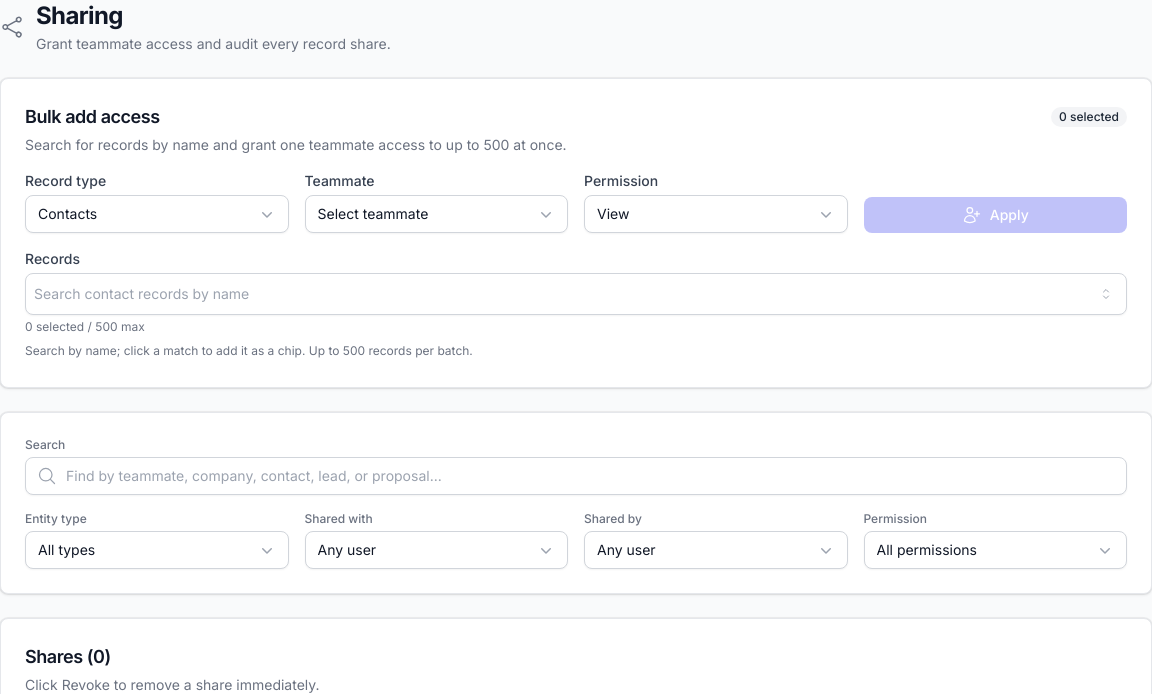
Test: AdminSharingPage bulk add › renders failed bulk results with detail + Retry failed records button
The width and height of the screenshot is (1152, 694).
Select "Sales Rep (rep@example.com)" in the dropdown labelled "Teammate": (436, 214) [304,195,568,233]
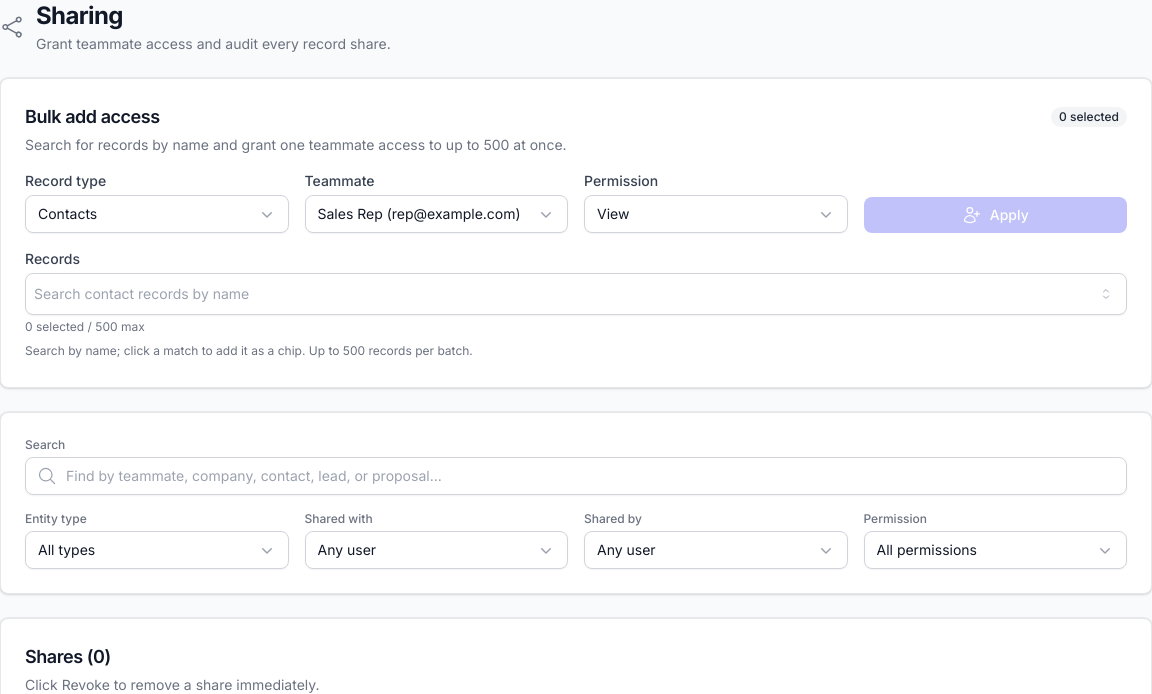
In the dropdown with placeholder "Search contact records by name": (561, 294) [34,284,1088,304], type "Al"
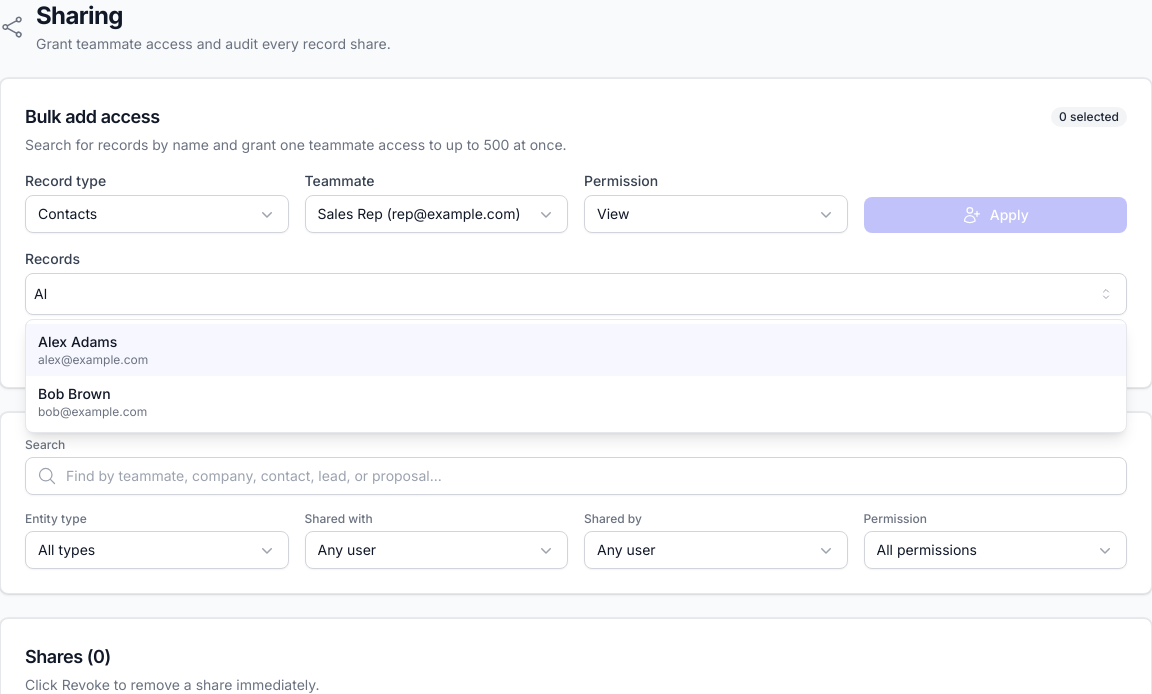
Click the text "Alex Adams": (78, 342) [38,333,117,350]
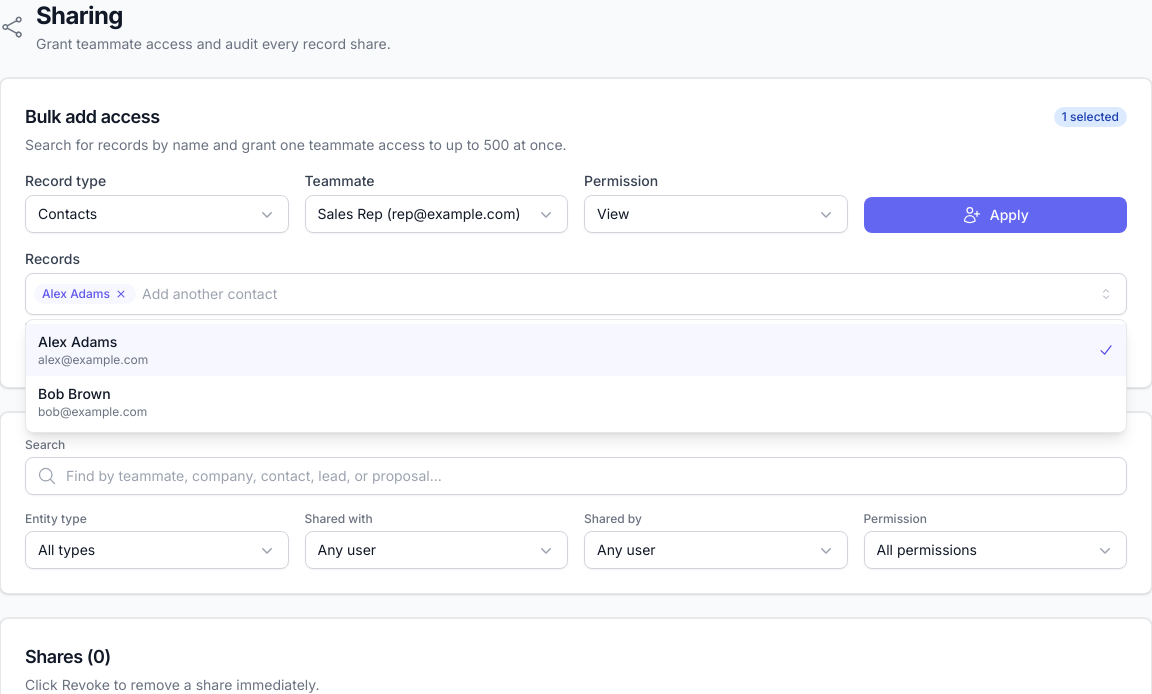
Click the button "Apply": (995, 215) [864,197,1127,233]
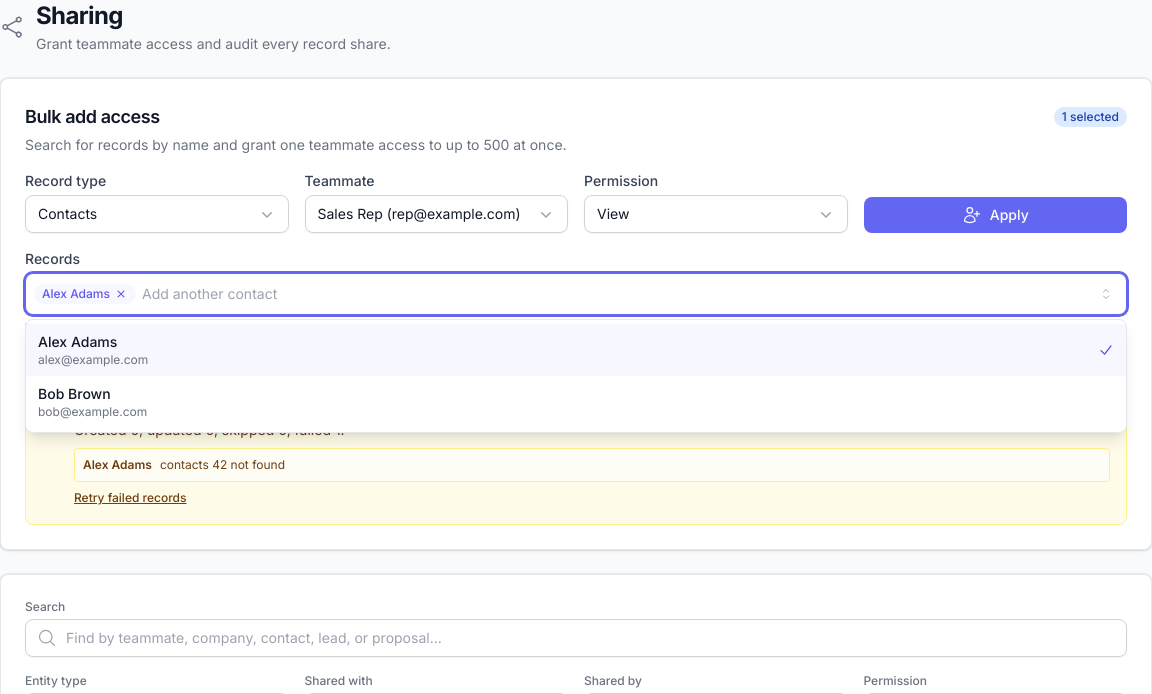
Expected: the text "Bulk sharing finished with issues" is shown, [74,397,296,414]
Now the text "contacts 42 not found" is shown, box [160,457,285,472]
Now the button "Retry failed records" is shown, box [74,490,186,506]
